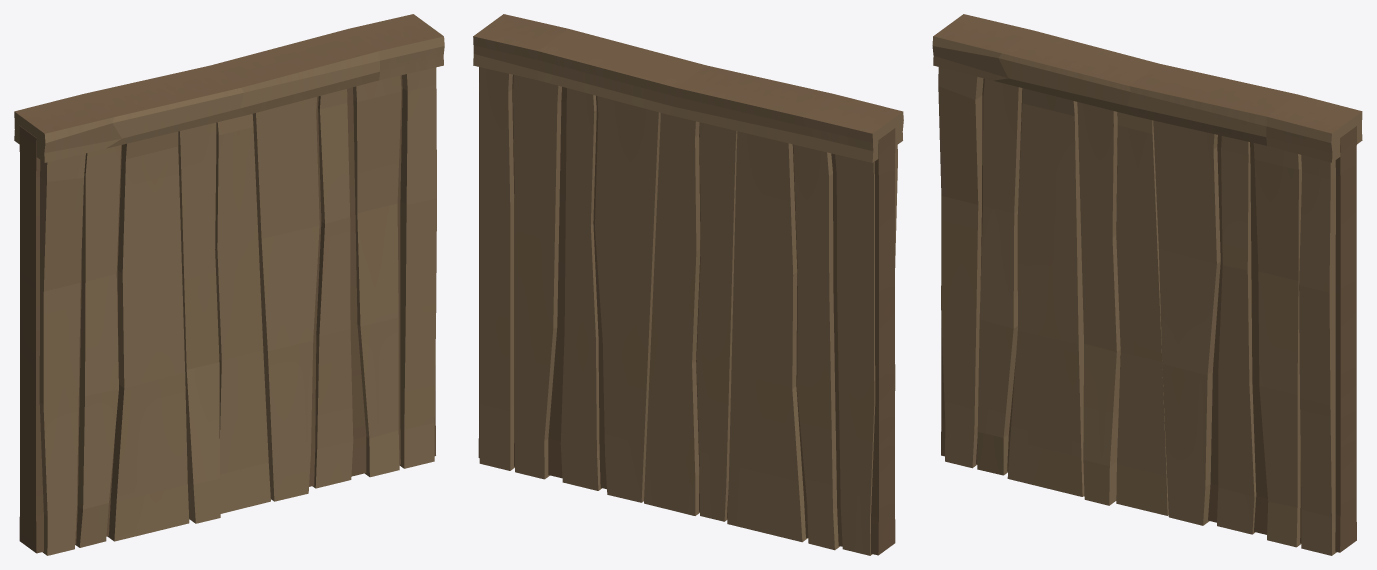
Rendered from wooden_wall.glb.
3 views of the same model, side by side, from view 1: azimuth 30°, elevation 25°; view 2: azimuth 150°, elevation 25°; view 3: azimuth 330°, elevation 25° (orthographic).
Parts seen in each view (by area): view 1: wooden_wall, wooden_board; view 2: wooden_wall, wooden_board; view 3: wooden_wall, wooden_board.
Part boxes in pixels (x1,y1,x2,y2): wooden_wall: (19,67,436,555); wooden_board: (14,14,444,162); wooden_wall: (478,67,897,555); wooden_board: (473,14,903,162); wooden_wall: (938,67,1356,555); wooden_board: (932,14,1362,162).
Size of the model in its own units: 2 by 2.05 by 0.2794.
Materials: 1 (1 with a texture image).
